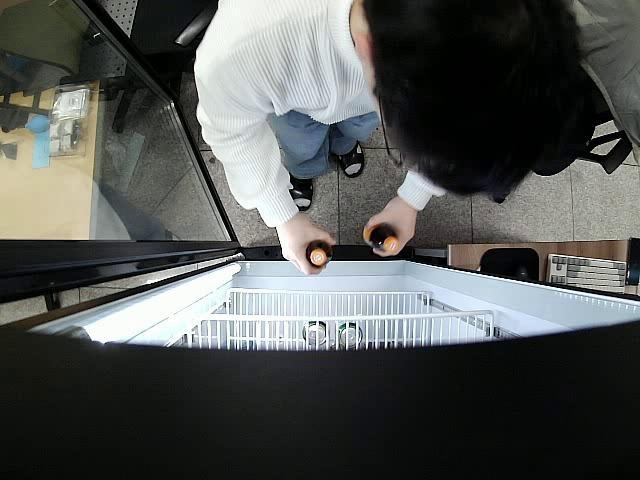17_vita500: (362, 222, 401, 253), (306, 240, 332, 268)
